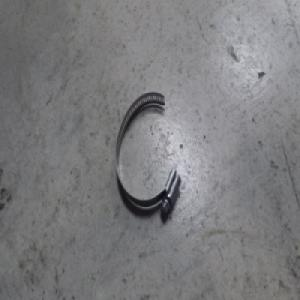AdjustableClamp: (116, 94, 182, 221)
